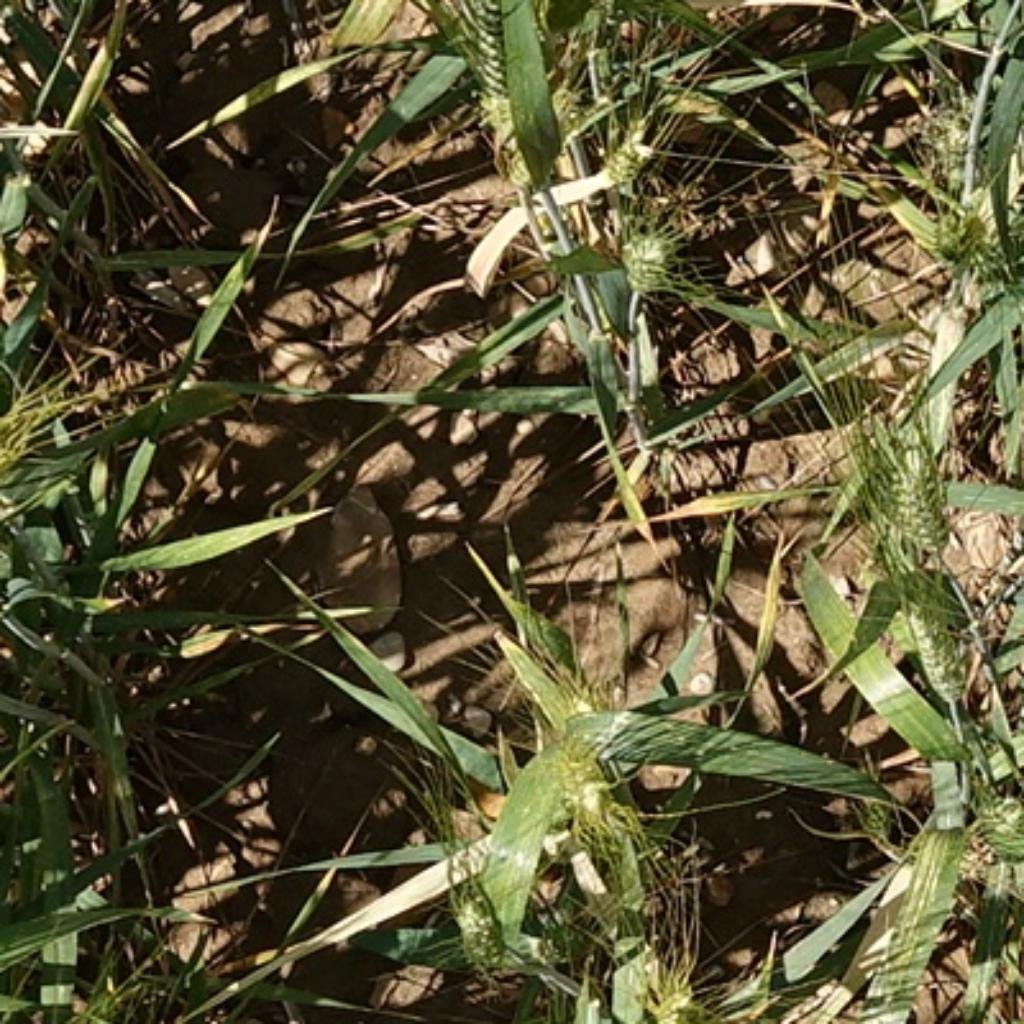0-0: (463, 2, 546, 189), (873, 452, 954, 557), (904, 608, 969, 706), (593, 117, 663, 202), (450, 892, 509, 980), (614, 212, 683, 286), (932, 203, 994, 283), (968, 787, 1024, 872), (561, 765, 619, 821), (847, 801, 901, 849), (642, 977, 697, 1024)
